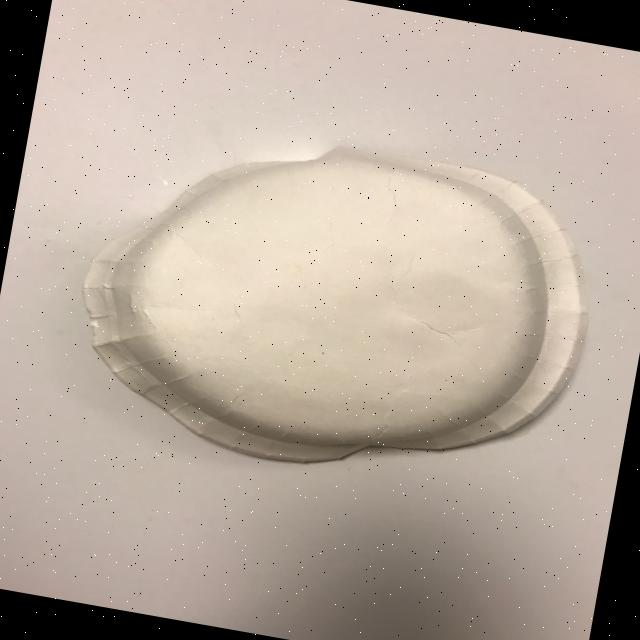paper: (57, 102, 612, 510)
